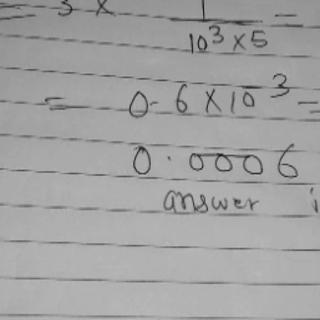.: (164, 149, 179, 165)
0: (135, 142, 158, 175), (127, 91, 150, 121), (240, 153, 264, 176), (214, 154, 233, 175), (187, 153, 204, 173), (241, 89, 257, 109), (196, 33, 208, 52)
1: (186, 30, 196, 56), (228, 89, 238, 113)
3: (270, 71, 290, 100), (207, 23, 227, 46)
5: (251, 28, 270, 50)
6: (275, 143, 300, 179), (172, 81, 192, 115)
